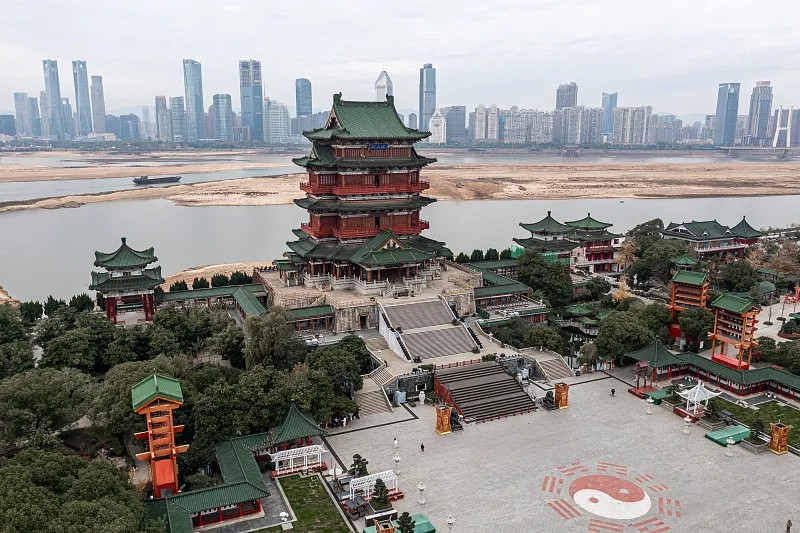Teng: (273, 93, 451, 284)
